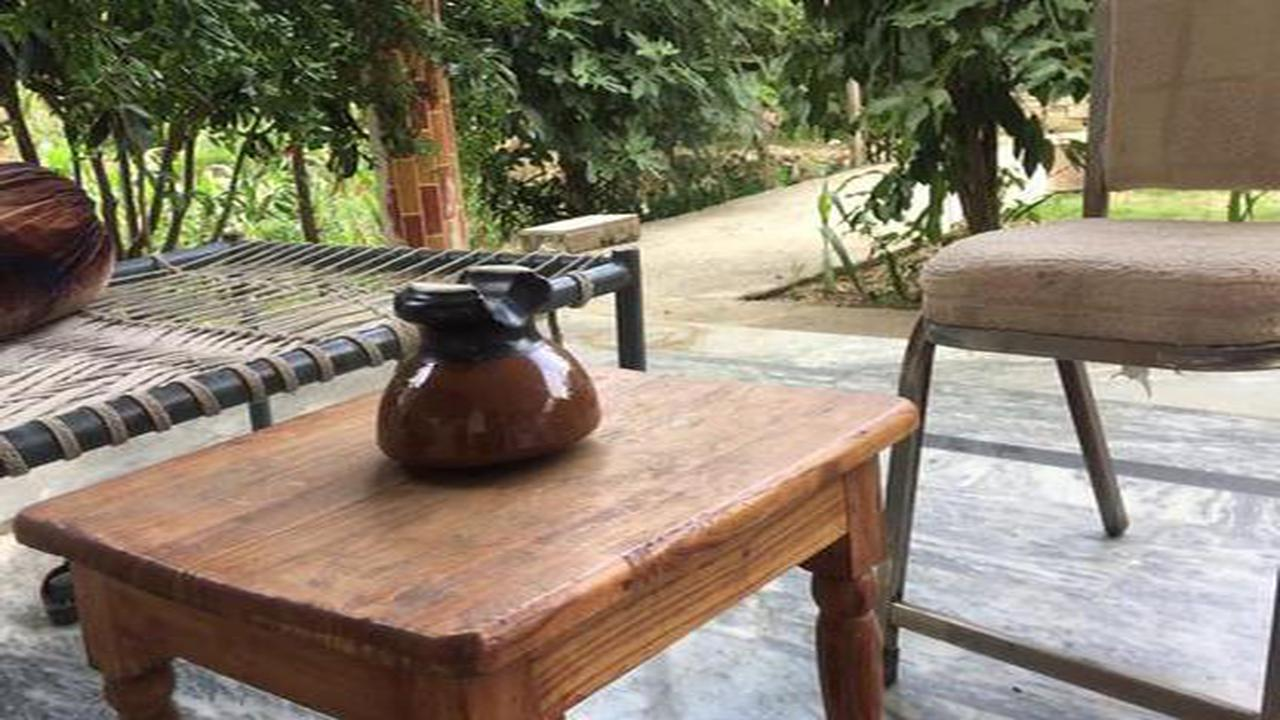insulator_pin: (367, 253, 594, 485)
